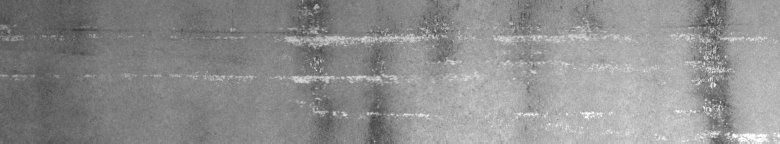hc: (680, 4, 764, 136)
